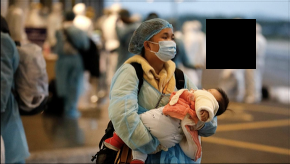with_mask: (151, 31, 176, 62)
